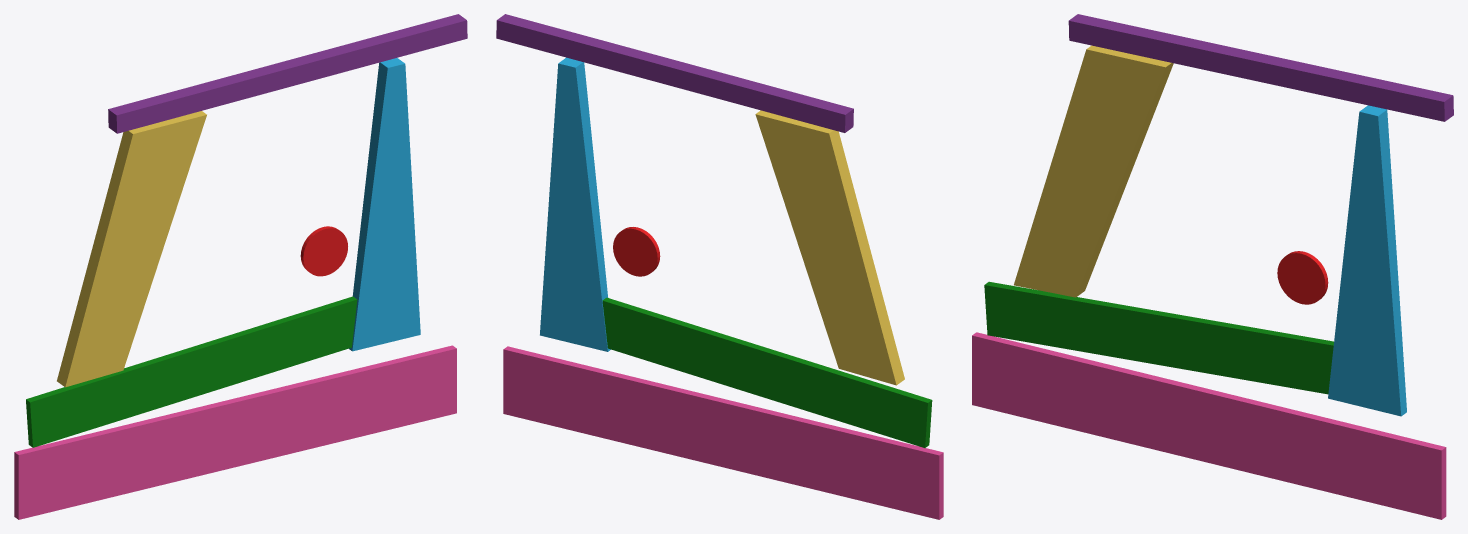
File: aleatoriedad.fbx
The picture shows the model from 3 angles, left to right: view 1: azimuth 30°, elevation 25°; view 2: azimuth 150°, elevation 25°; view 3: azimuth 330°, elevation 25°; orthographic projection. The views are drawn at different scales.
Visible parts, largest first — view 1: Cylinder.002; view 2: Cylinder.002; view 3: Cylinder.002.
Part boxes in pixels (x1,y1,x2,y2): Cylinder.002: (14,14,467,519); Cylinder.002: (496,14,943,519); Cylinder.002: (972,14,1453,519).
Size of the model in its own units: 595 by 504 by 19.78.
